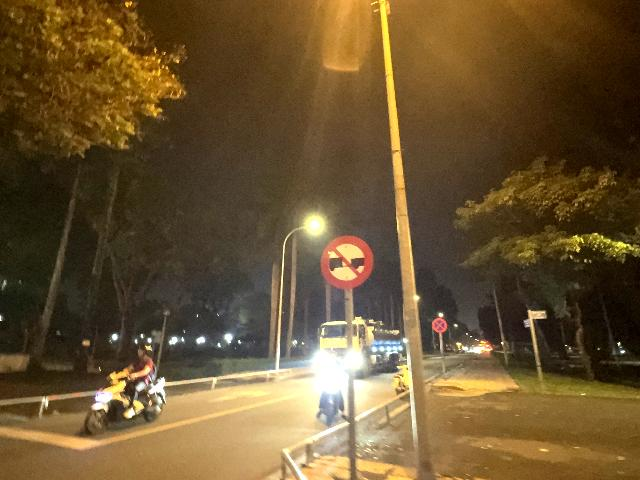cam-xe-somi-romooc: (320, 235, 374, 289)
